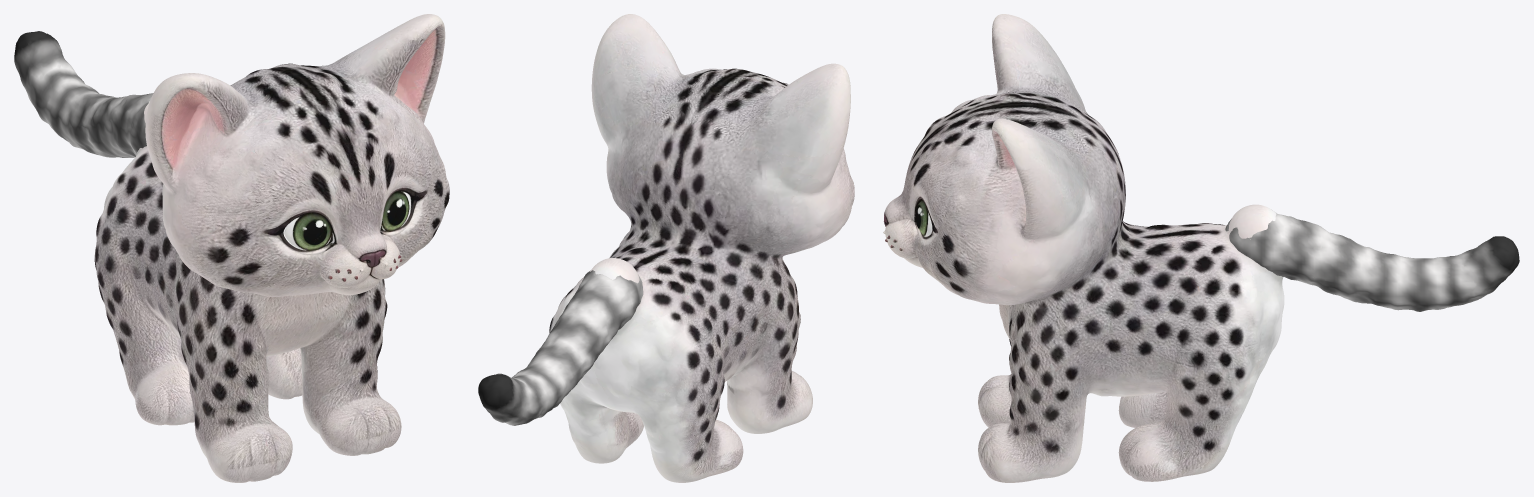
Rendered from meshy-mau.glb.
3 views of the same model, side by side, from view 1: azimuth 30°, elevation 25°; view 2: azimuth 150°, elevation 25°; view 3: azimuth 270°, elevation 25° (orthographic). The views are drawn at different scales.
Visible parts, largest first — view 1: Mesh_0, tail.001; view 2: Mesh_0, tail.001; view 3: Mesh_0, tail.001.
Boxes of the visible parts, x1=… form: Mesh_0: x1=94, y1=14, x2=449, y2=482; tail.001: x1=14, y1=31, x2=153, y2=157; Mesh_0: x1=549, y1=14, x2=854, y2=482; tail.001: x1=478, y1=270, x2=643, y2=425; Mesh_0: x1=883, y1=14, x2=1284, y2=482; tail.001: x1=1225, y1=212, x2=1519, y2=311.
Bounding box in the file's own units: 1.39 × 1.9 × 2.91.
2 materials, 1 textured.
